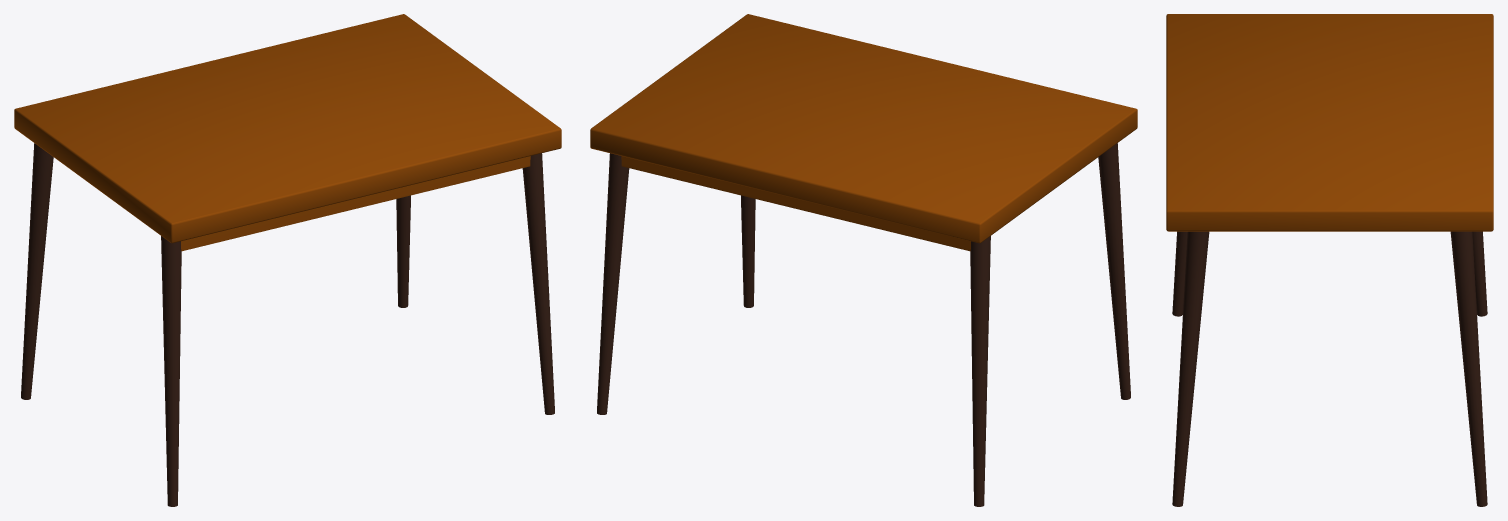
The model's file is SoloTable.fbx.
3 renders of one model, left to right at view 1: azimuth 30°, elevation 25°; view 2: azimuth 150°, elevation 25°; view 3: azimuth 270°, elevation 25°, orthographic. The views are drawn at different scales.
Visible parts, largest first — view 1: SoloTable; view 2: SoloTable; view 3: SoloTable.
Boxes of the visible parts, box(x1,y1,x2,y2) form: SoloTable: box(14, 14, 561, 506); SoloTable: box(590, 14, 1137, 506); SoloTable: box(1166, 14, 1493, 506).
Size of the model in its own units: 1.2 by 0.8433 by 0.84.
